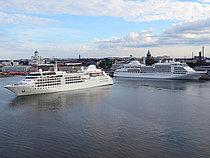Ship: (3, 64, 119, 101), (111, 59, 210, 86)
